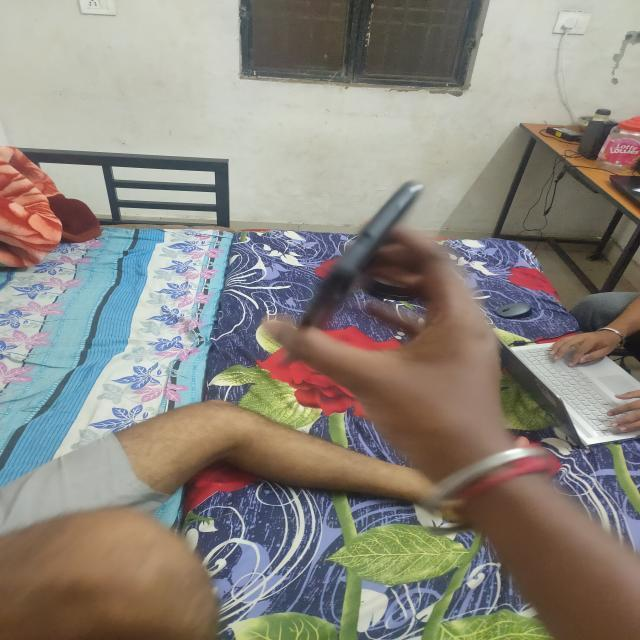Phone: (296, 178, 428, 333)
